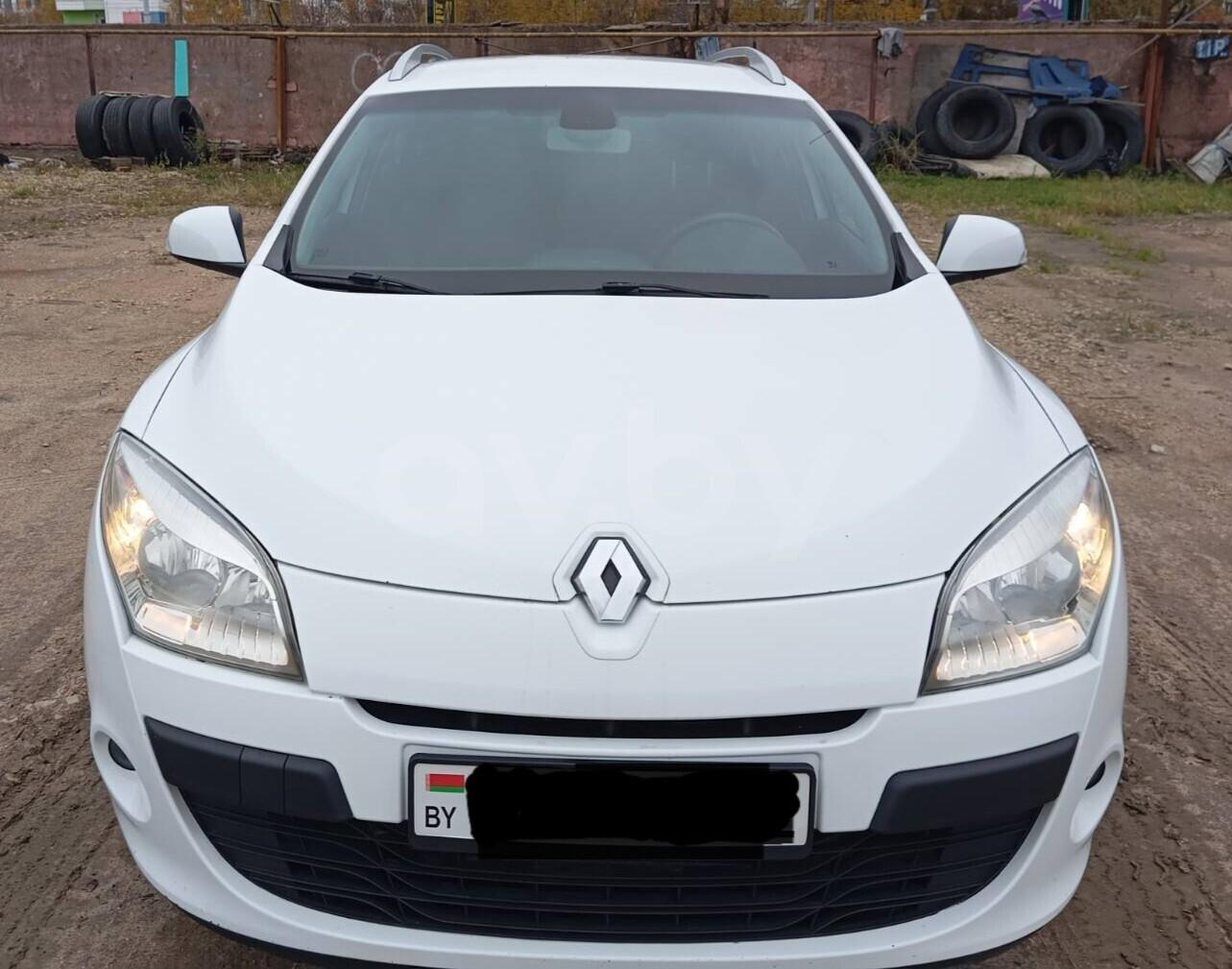Megane_2008-2014: (64, 49, 1141, 962)
